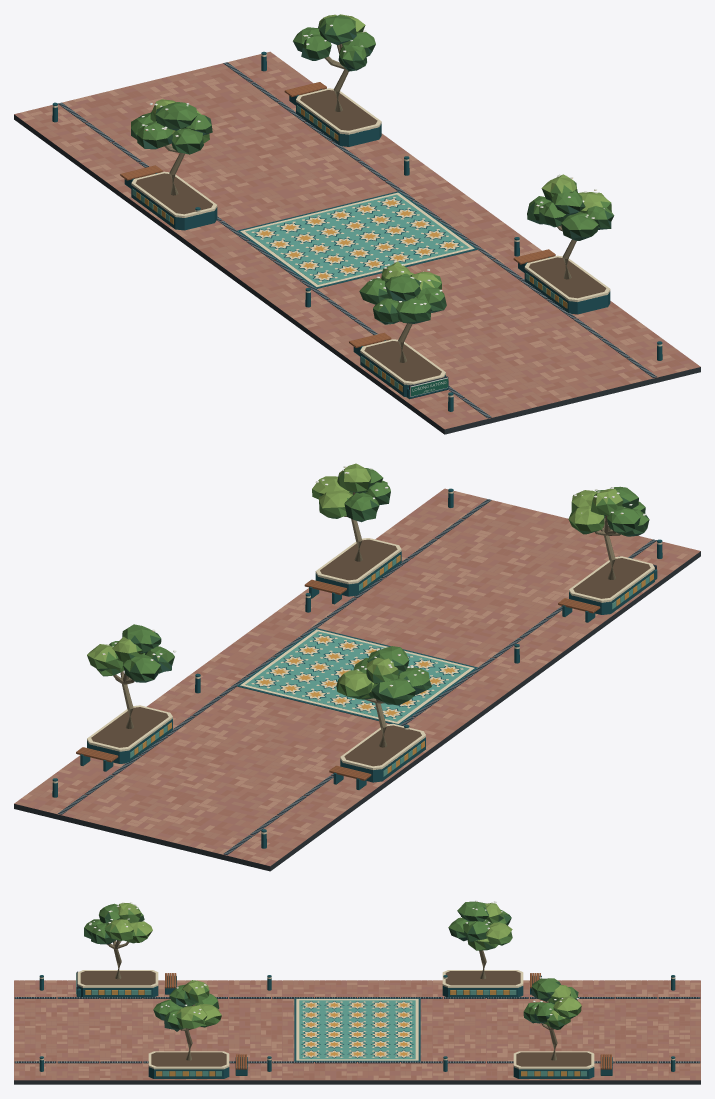
3 renders of one model, top to bottom at view 1: azimuth 30°, elevation 25°; view 2: azimuth 150°, elevation 25°; view 3: azimuth 270°, elevation 25°, orthographic. The views are drawn at different scales.
Visible parts, largest first — view 1: Basketweave street setts, Load bearing sett bed, Layered tree crowns, Carpet border, Tree soil, Star tile inlays, Flush slot drains, Glazed planter plinth, Planter rim, Grate bridges, Planter seat rails, Branch framework (+3 smaller); view 2: Basketweave street setts, Load bearing sett bed, Layered tree crowns, Tree soil, Carpet border, Star tile inlays, Flush slot drains, Glazed planter plinth, Planter rim, Grate bridges, Branch framework, Planter seat rails (+3 smaller); view 3: Basketweave street setts, Load bearing sett bed, Layered tree crowns, Carpet border, Tree soil, Star tile inlays, Flush slot drains, Glazed planter plinth, Planter rim, Glazed tile frieze, Grate bridges, Branch framework (+4 smaller).
Boxes of the visible parts, x1,y1,x2,y2 form: Basketweave street setts: [14, 52, 700, 428]; Load bearing sett bed: [14, 54, 700, 434]; Layered tree crowns: [131, 14, 614, 324]; Carpet border: [237, 191, 477, 288]; Tree soil: [135, 90, 606, 381]; Star tile inlays: [254, 198, 460, 280]; Flush slot drains: [58, 62, 656, 418]; Glazed planter plinth: [131, 102, 610, 397]; Planter rim: [131, 88, 610, 385]; Grate bridges: [59, 62, 655, 417]; Planter seat rails: [120, 82, 555, 347]; Branch framework: [164, 44, 576, 362]; Basketweave street setts: [14, 488, 699, 865]; Load bearing sett bed: [14, 491, 700, 871]; Layered tree crowns: [87, 463, 649, 705]; Tree soil: [91, 539, 650, 766]; Carpet border: [237, 628, 477, 725]; Star tile inlays: [254, 635, 460, 717]; Flush slot drains: [58, 499, 656, 855]; Glazed planter plinth: [87, 551, 654, 782]; Planter rim: [87, 538, 654, 769]; Grate bridges: [59, 499, 655, 854]; Branch framework: [113, 492, 620, 747]; Planter seat rails: [76, 579, 600, 780]; Basketweave street setts: [14, 980, 700, 1079]; Load bearing sett bed: [14, 980, 700, 1084]; Layered tree crowns: [84, 901, 581, 1031]; Carpet border: [294, 998, 420, 1061]; Tree soil: [80, 971, 591, 1066]; Star tile inlays: [301, 1001, 413, 1058]; Flush slot drains: [14, 997, 700, 1063]; Glazed planter plinth: [78, 986, 594, 1078]; Planter rim: [77, 970, 594, 1069]; Glazed tile frieze: [85, 990, 586, 1076]; Grate bridges: [15, 997, 699, 1062]; Branch framework: [107, 940, 557, 1060].
Size of the model in its own units: 12.5 by 4.79 by 32.
